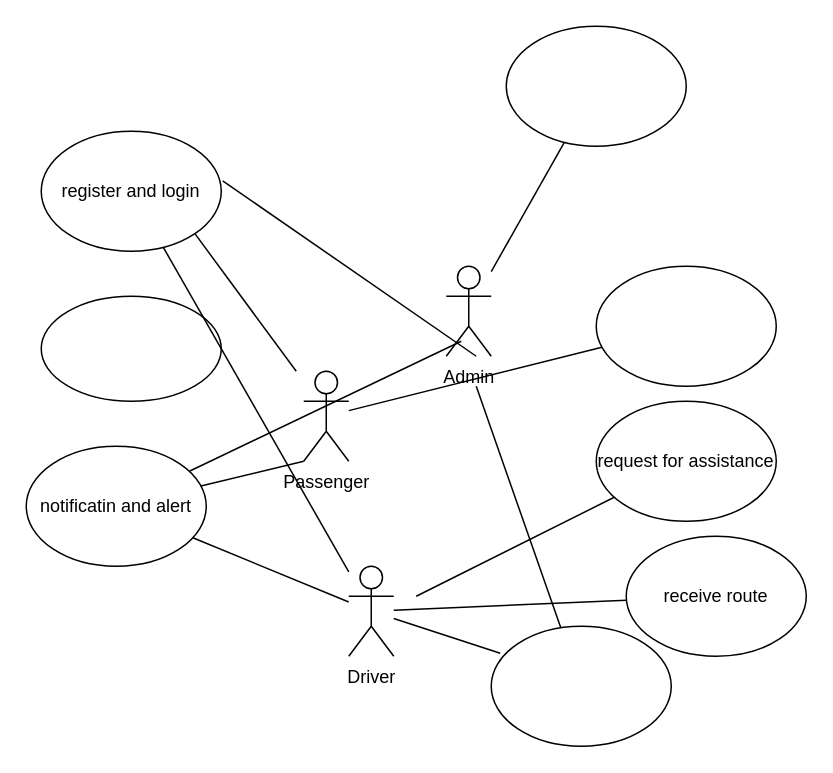
Image size: 833x773. Some labels were removed from this diagram. The shapes that lost their labels are listed below. From the top down, each one's box as (x1, y1, x2, y2) in pixels, then its label:
(505, 25, 686, 146): manage users
(595, 265, 776, 386): paymeent
(40, 295, 221, 401): real time bus tracking
(490, 625, 671, 746): drive inerface
